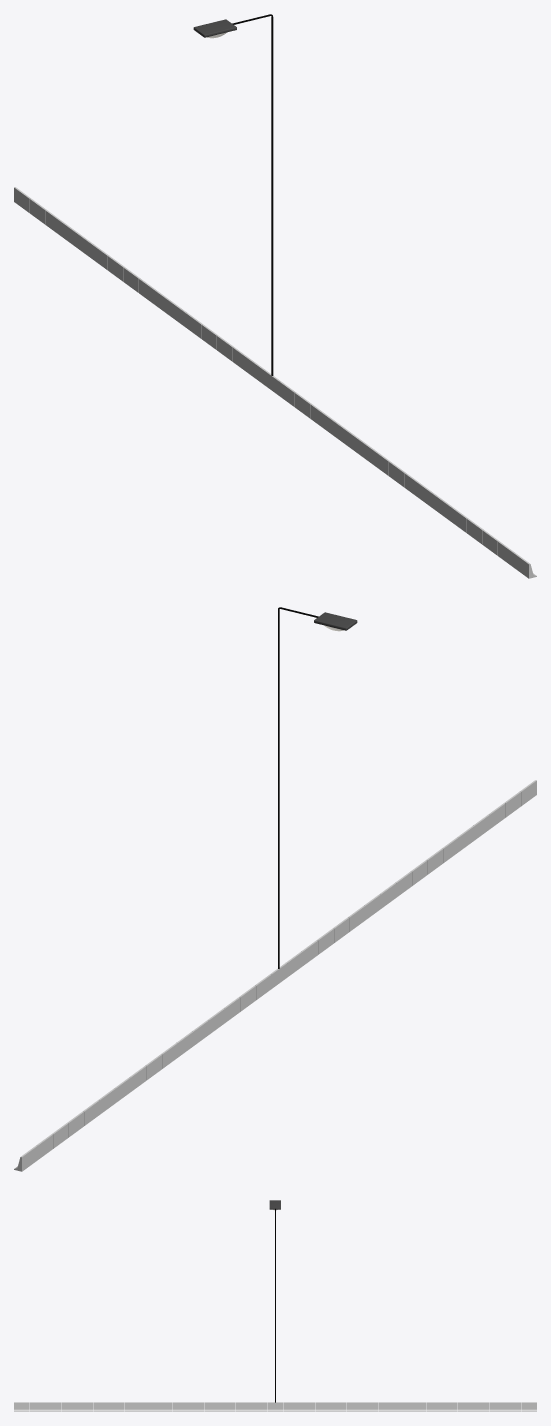
Rendered from barriers.glb.
The picture shows the model from 3 angles, top to bottom: view 1: azimuth 30°, elevation 25°; view 2: azimuth 150°, elevation 25°; view 3: azimuth 270°, elevation 25°; orthographic projection. The views are drawn at different scales.
Visible parts, largest first — view 1: concreteBarriers, pole; view 2: concreteBarriers, pole; view 3: concreteBarriers.
Boxes of the visible parts, x1,y1,x2,y2 form: concreteBarriers: (14,187,536,578); pole: (232,14,273,375); concreteBarriers: (14,780,536,1171); pole: (278,607,318,968); concreteBarriers: (14,1402,536,1411).
Size of the model in its own units: 4.52 by 20.18 by 49.96.
5 materials, 1 textured.
